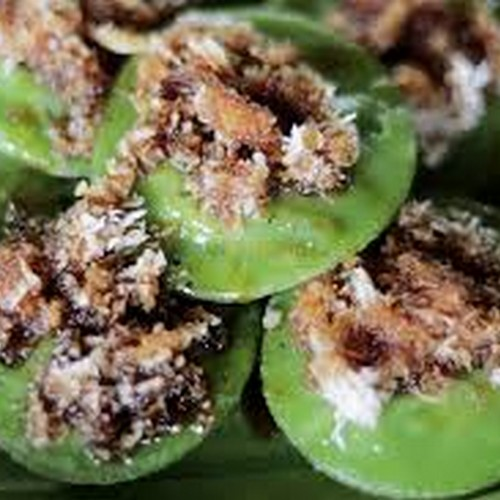laklak: (11, 14, 495, 486)
